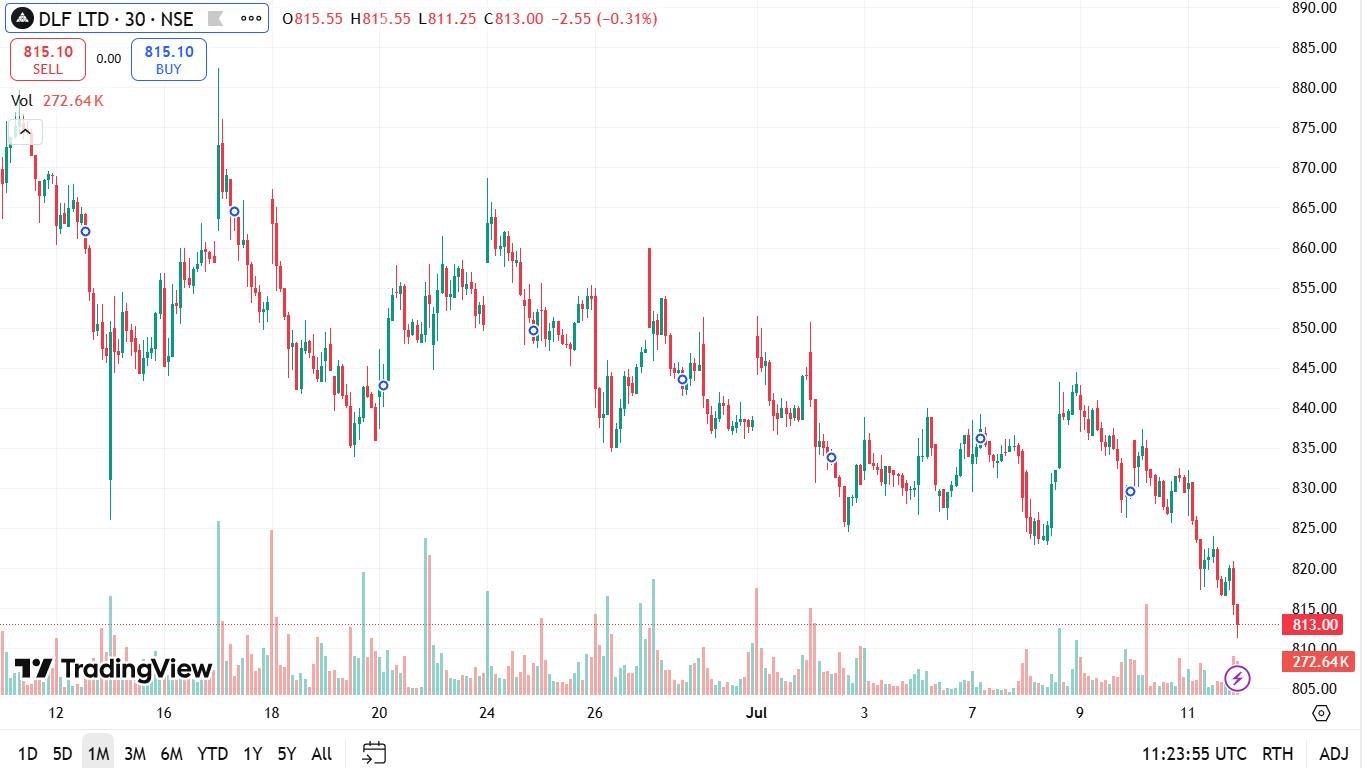Downtrend: (506, 204, 851, 552), (11, 100, 144, 465), (1094, 380, 1241, 623), (275, 143, 381, 478), (808, 328, 844, 549)
Uptrend: (148, 100, 221, 448), (384, 184, 499, 393), (600, 238, 662, 468), (1025, 355, 1086, 551)
